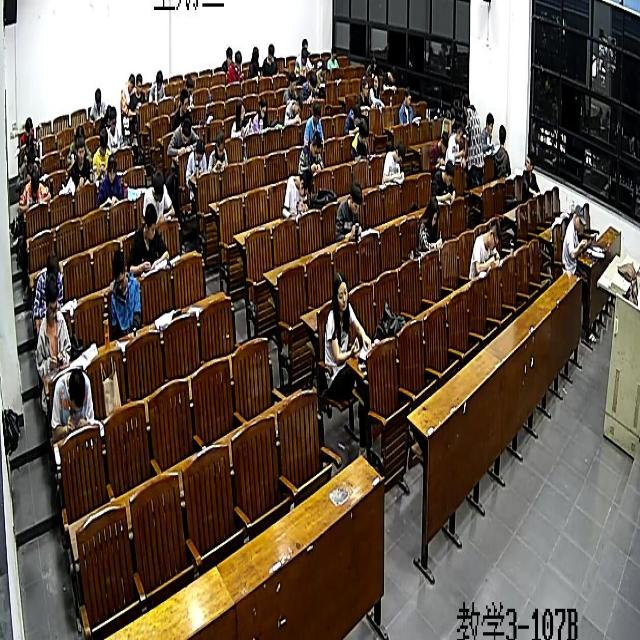person: (68, 366, 87, 414), (44, 273, 58, 321), (333, 270, 349, 312), (111, 249, 126, 293), (486, 213, 502, 253), (142, 202, 156, 243), (44, 250, 60, 284), (572, 199, 585, 234), (308, 128, 322, 160), (426, 194, 438, 230), (300, 165, 312, 200), (347, 183, 360, 215), (213, 130, 226, 158), (98, 124, 109, 156), (394, 140, 406, 168), (106, 155, 118, 182), (234, 98, 247, 122), (443, 160, 454, 188), (523, 148, 533, 178), (179, 118, 190, 145), (76, 136, 86, 165), (152, 172, 164, 196), (358, 118, 368, 145), (258, 94, 267, 122), (29, 172, 39, 197), (194, 137, 204, 162), (351, 102, 361, 127), (154, 64, 162, 94), (178, 88, 188, 112), (107, 107, 117, 130), (388, 65, 398, 88), (25, 144, 34, 169), (461, 90, 470, 115), (498, 120, 506, 148), (234, 45, 243, 69), (485, 112, 494, 136), (358, 75, 368, 96), (224, 43, 233, 66), (440, 129, 448, 154), (293, 94, 302, 116), (456, 122, 464, 146), (75, 124, 83, 146), (250, 42, 258, 64), (266, 42, 274, 64), (312, 100, 320, 122), (308, 69, 316, 90), (403, 87, 411, 108), (94, 87, 102, 107), (318, 60, 326, 80), (185, 75, 193, 94), (288, 72, 296, 90), (25, 115, 32, 135), (371, 72, 378, 92), (136, 71, 142, 94), (300, 44, 306, 66), (127, 74, 134, 92), (370, 54, 376, 72), (302, 34, 308, 50), (26, 132, 32, 147), (330, 47, 336, 62)
